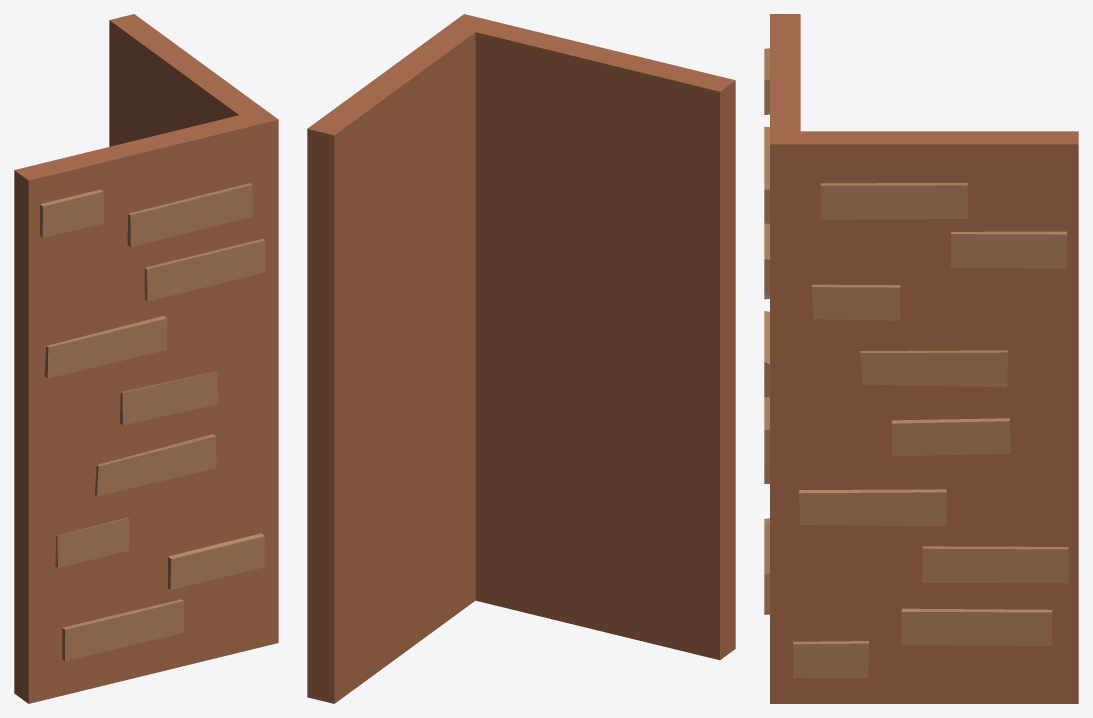
The model's file is BrickV3Corner.fbx.
The picture shows the model from 3 angles, left to right: view 1: azimuth 30°, elevation 25°; view 2: azimuth 150°, elevation 25°; view 3: azimuth 270°, elevation 25°; orthographic projection. The views are drawn at different scales.
Visible parts, largest first — view 1: BrickV3Corner; view 2: BrickV3Corner; view 3: BrickV3Corner.
Part boxes in pixels (<box>): BrickV3Corner: <box>14,14,278,703</box>; BrickV3Corner: <box>307,14,735,703</box>; BrickV3Corner: <box>764,14,1078,703</box>.
Bounding box in the file's own units: 102 × 200 × 102.
